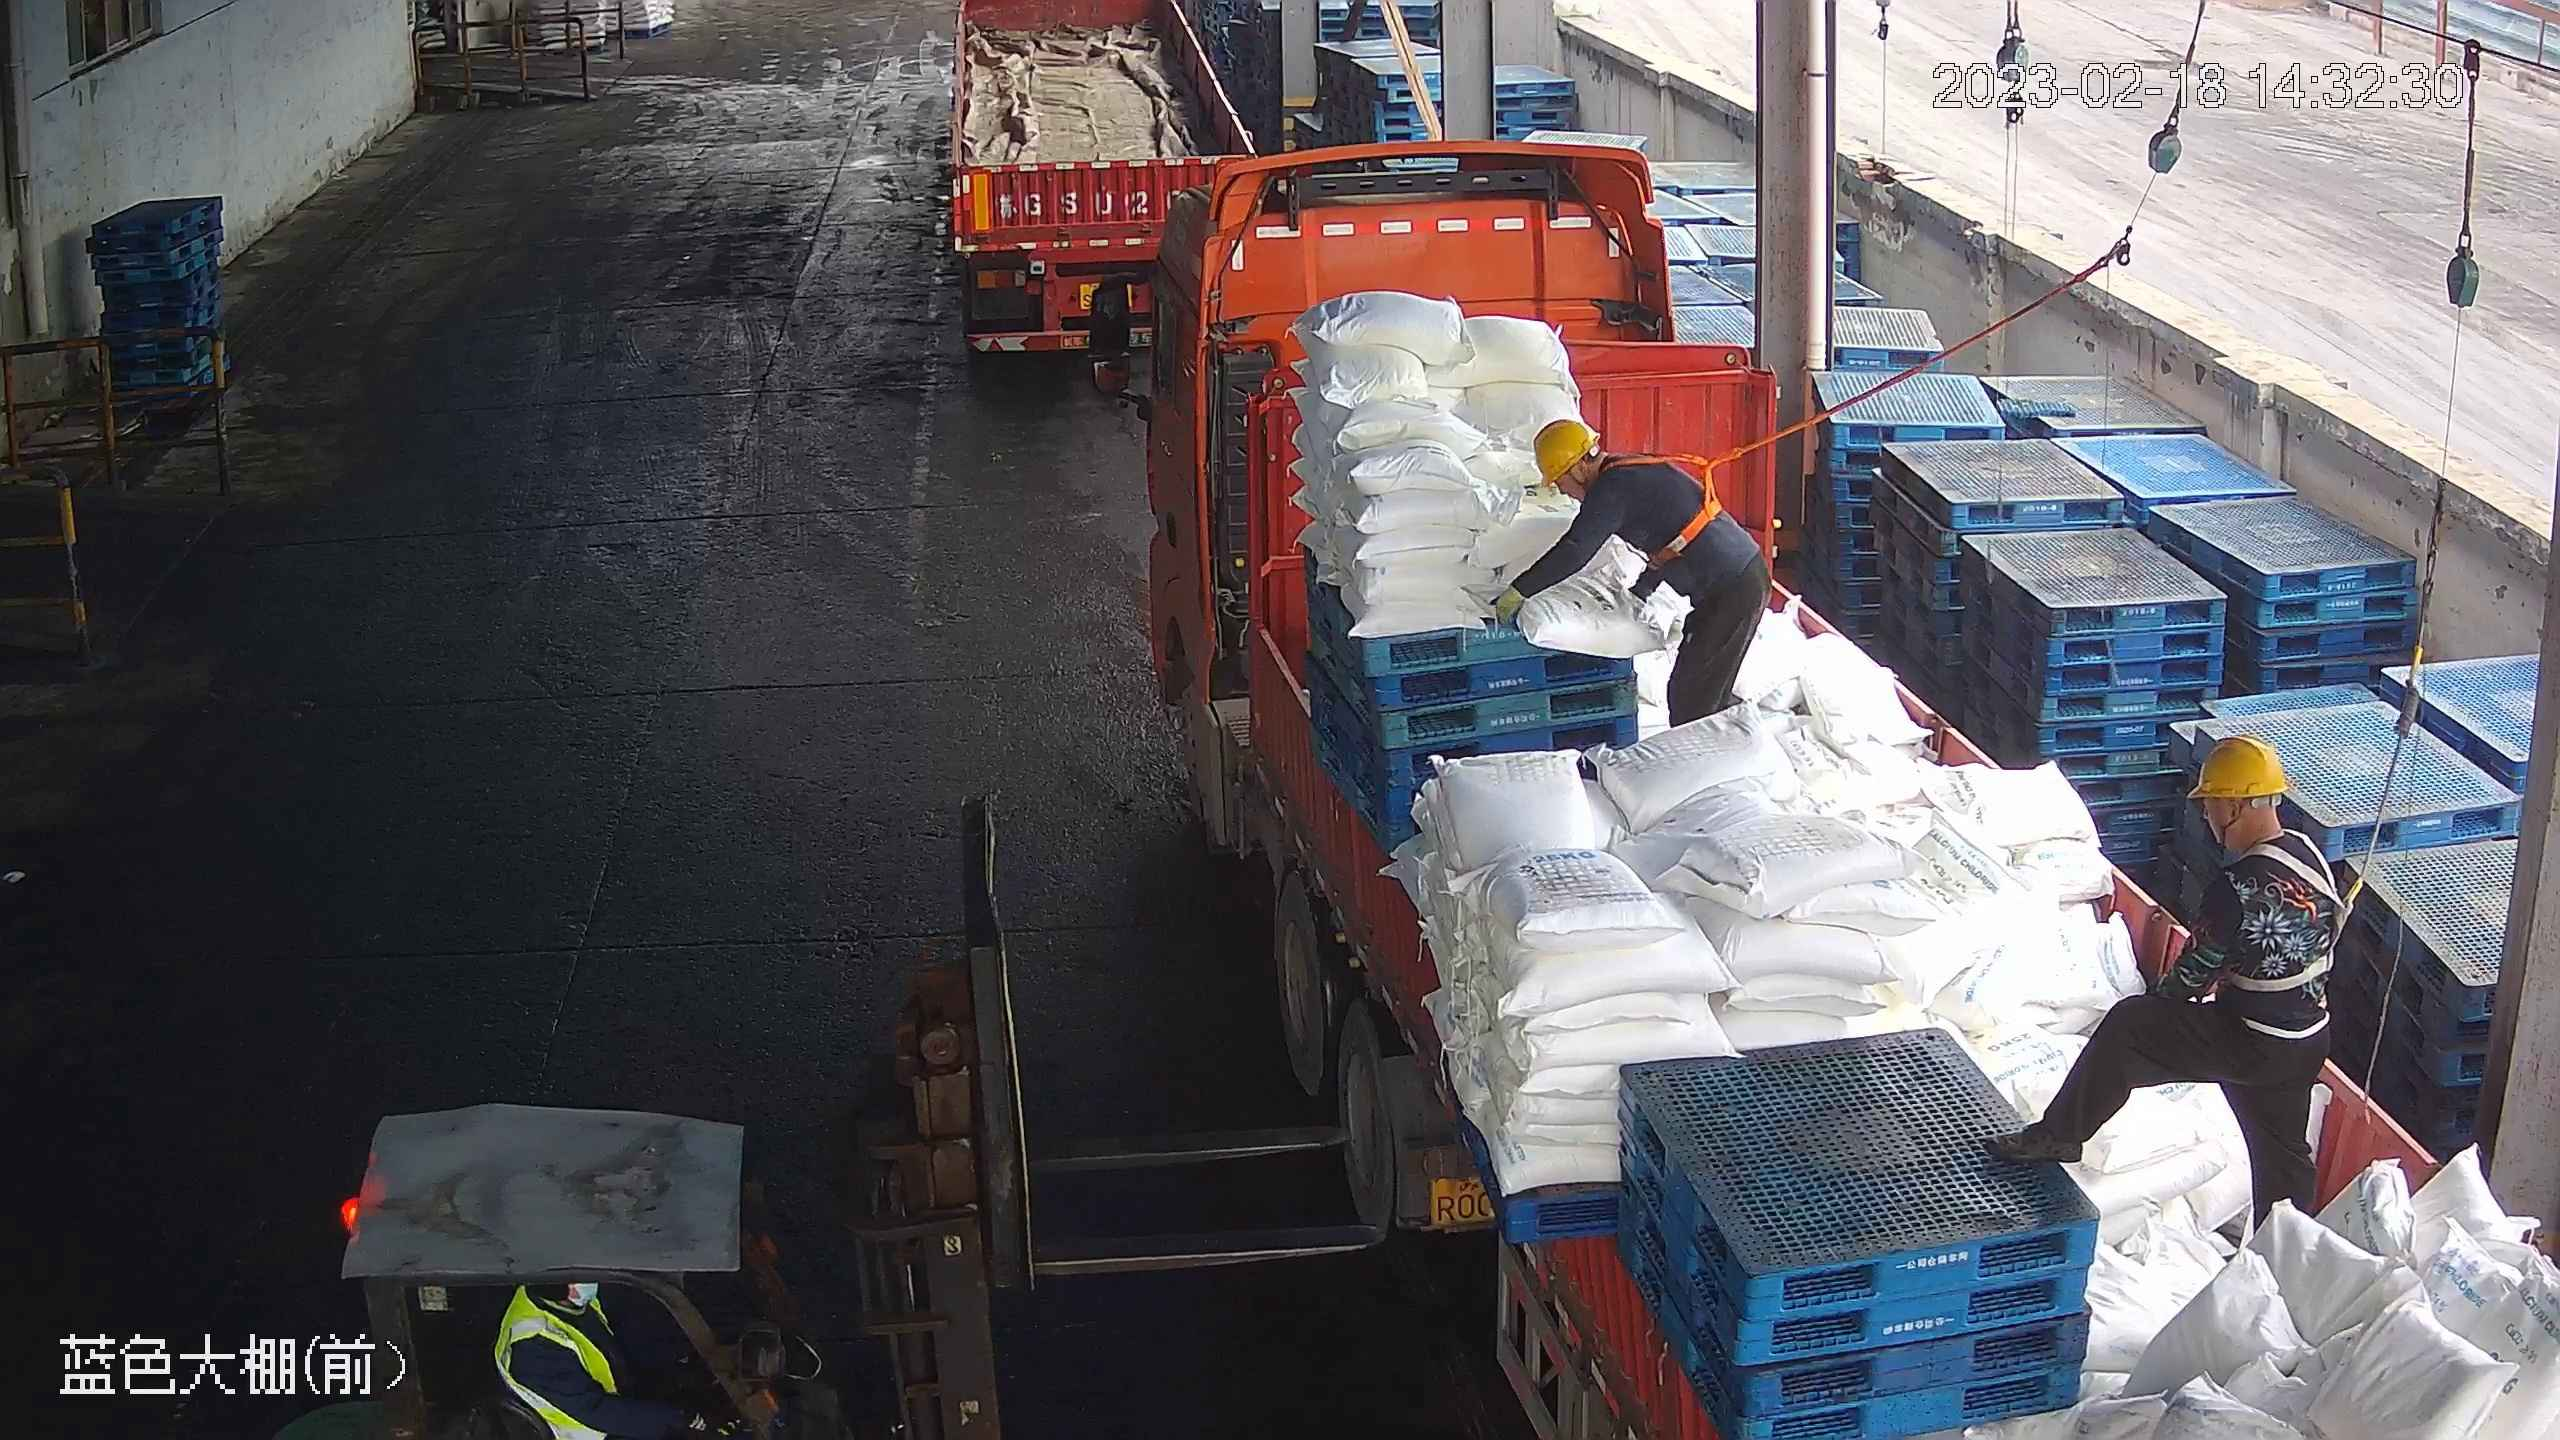belt: (2227, 831, 2363, 998), (1610, 438, 1738, 558)
head: (2181, 729, 2340, 914), (1529, 419, 1679, 552)
helmet: (2185, 732, 2288, 803), (1533, 417, 1600, 488)
people: (2001, 725, 2358, 1275), (1481, 413, 1779, 740), (493, 1271, 735, 1440)
truck: (1081, 138, 2547, 1432), (938, 4, 1266, 379)
